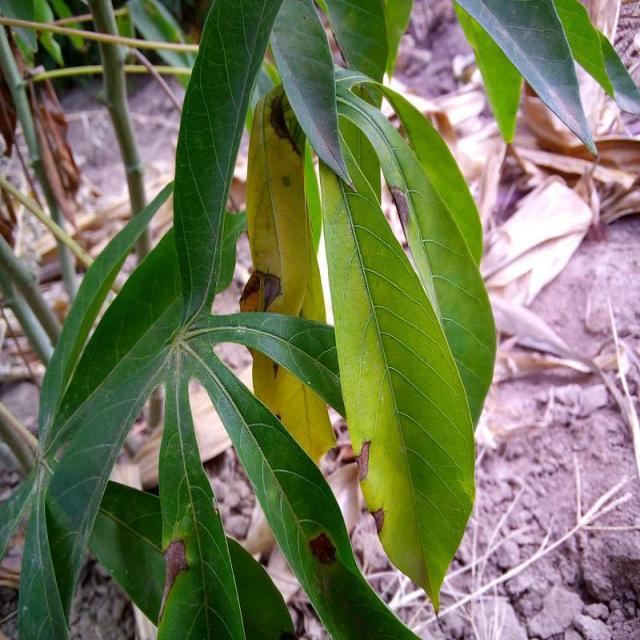cassava leaf: (315, 75, 479, 614)
